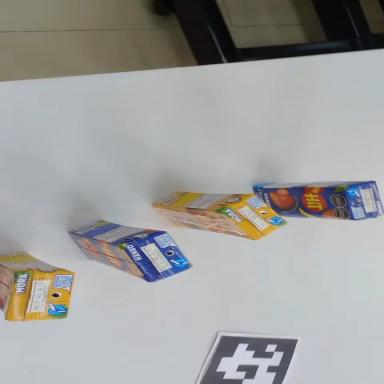HIT-MANGO: (63, 215, 196, 289), (254, 178, 384, 221)
HIT-MORA: (152, 190, 287, 241), (0, 252, 74, 321)
cara_F: (62, 233, 155, 282), (152, 206, 254, 239), (254, 187, 353, 220), (0, 264, 16, 319)
